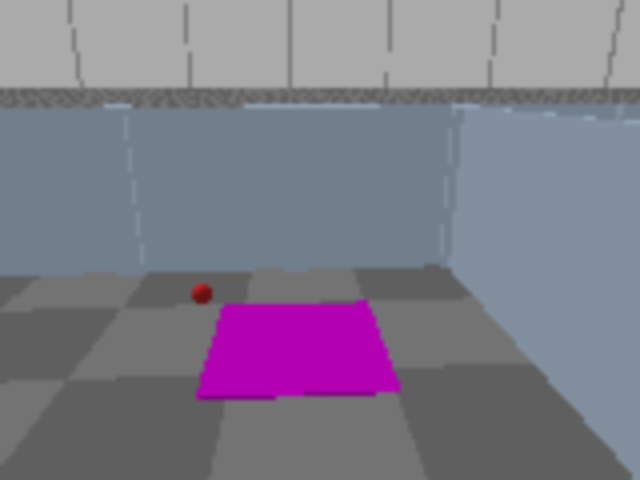goal_zone: (194, 302, 401, 401)
puck: (187, 281, 216, 309)
